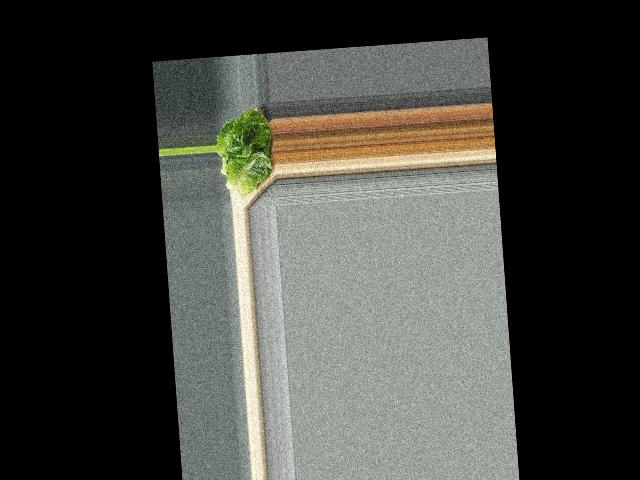lettuce: (214, 105, 278, 197)
